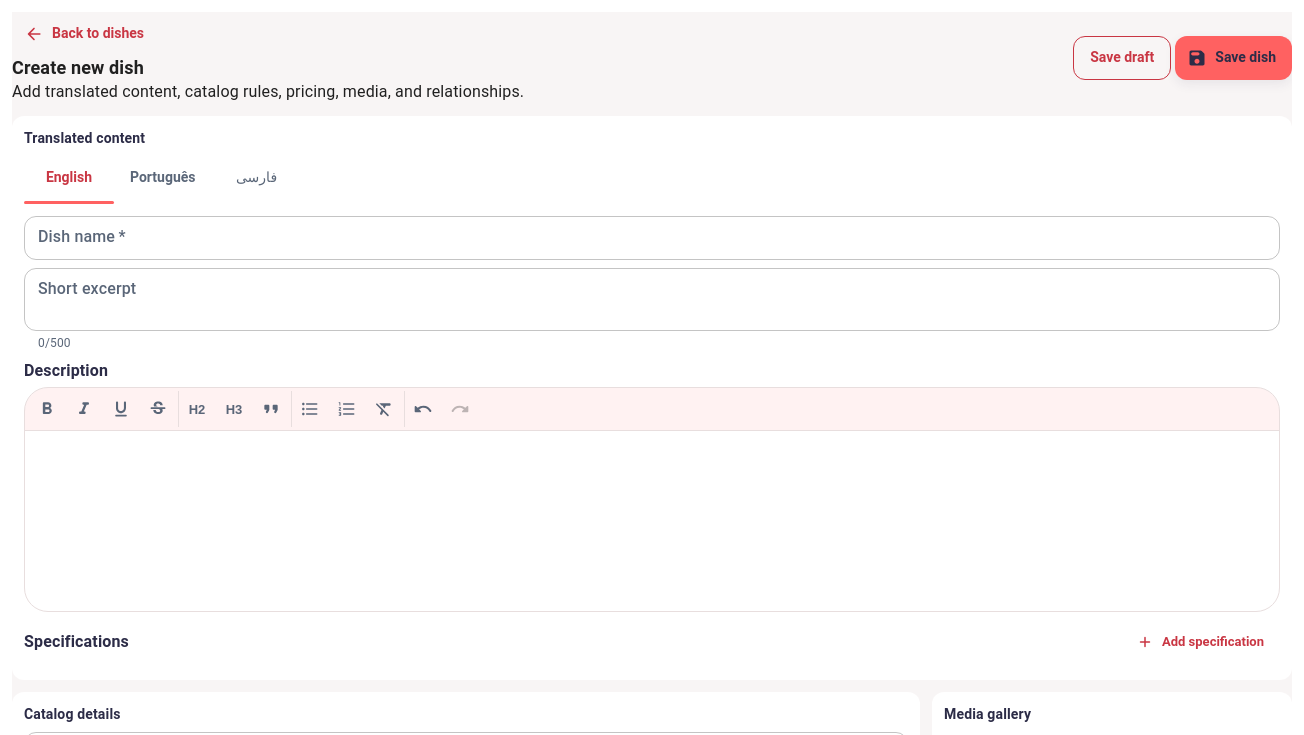
Scenario: dish editor › fails fast on incomplete values and keeps the user in the editor
Click the button "Save dish" at x=1234, y=58, box [1175,36,1292,80]
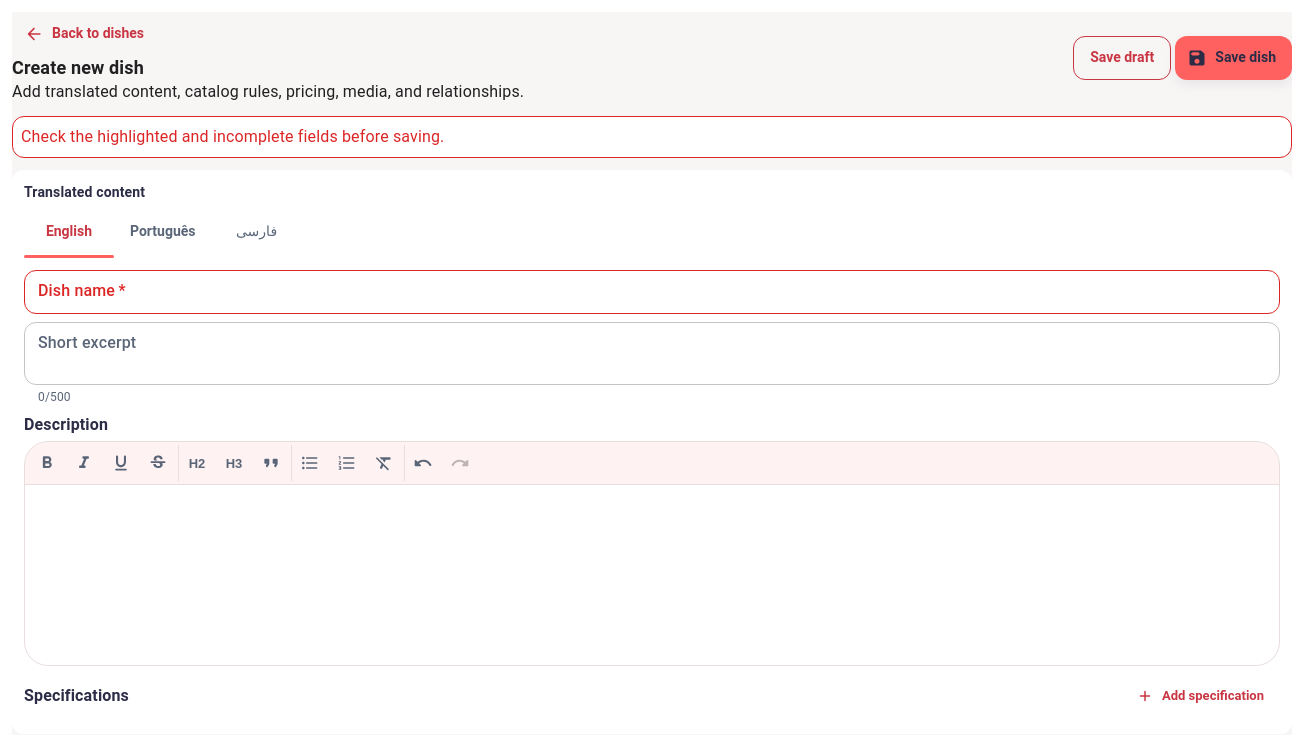
Check: the message reads "Check the highlighted and incomplete fields before saving.", box [21,127,444,146]
